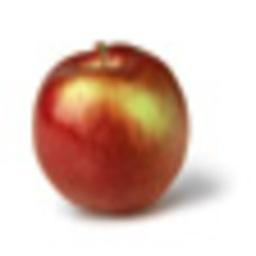apple: (29, 41, 193, 215)
